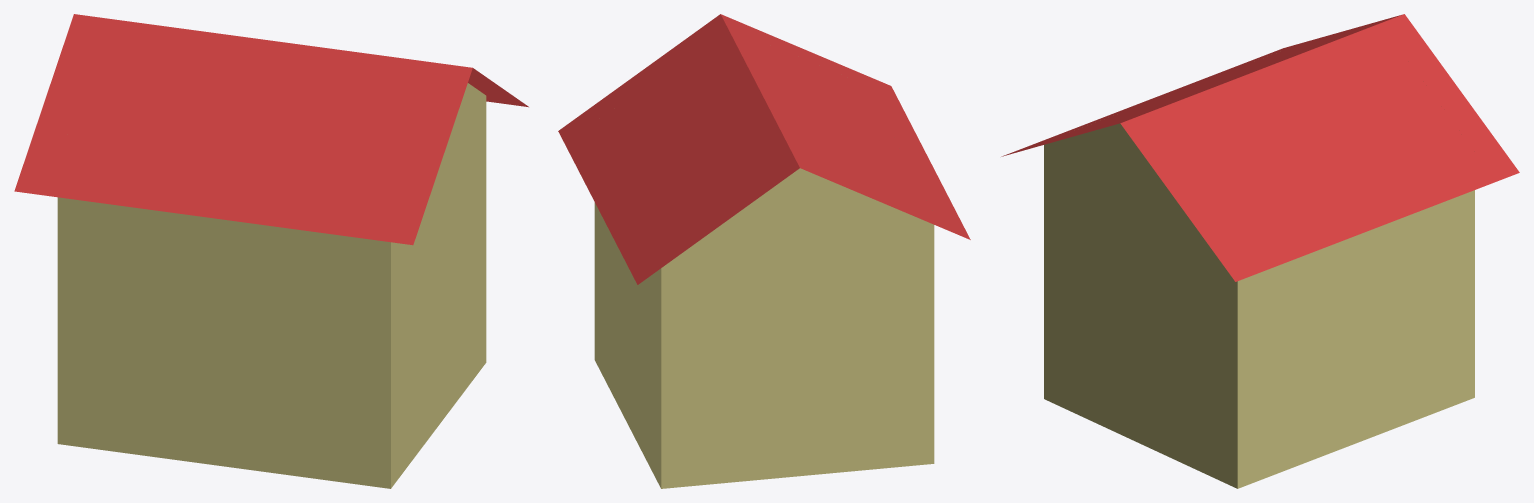
3 views of the same model, side by side, from view 1: azimuth 30°, elevation 25°; view 2: azimuth 150°, elevation 25°; view 3: azimuth 270°, elevation 25° (orthographic). The views are drawn at different scales.
Size of the model in its own units: 16.32 by 16.39 by 11.49.
